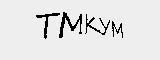К: (82, 11, 102, 38)
М: (55, 10, 83, 40), (110, 21, 128, 38)
Т: (33, 11, 58, 41)
У: (97, 17, 112, 37)
